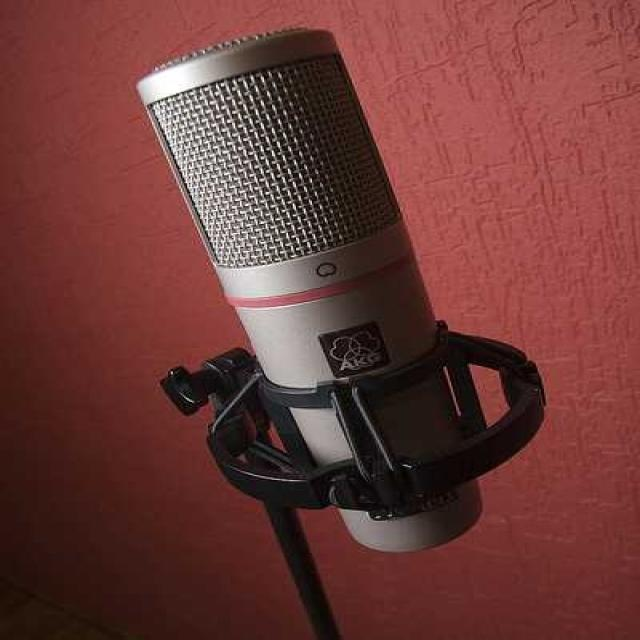microphone: (138, 28, 534, 550)
